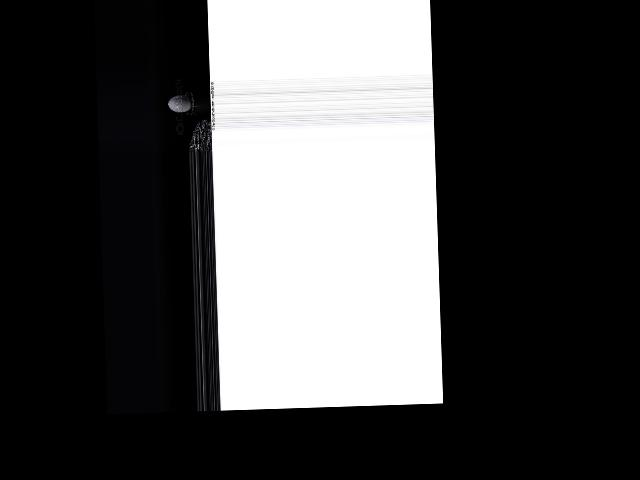egg: (168, 94, 192, 112)
